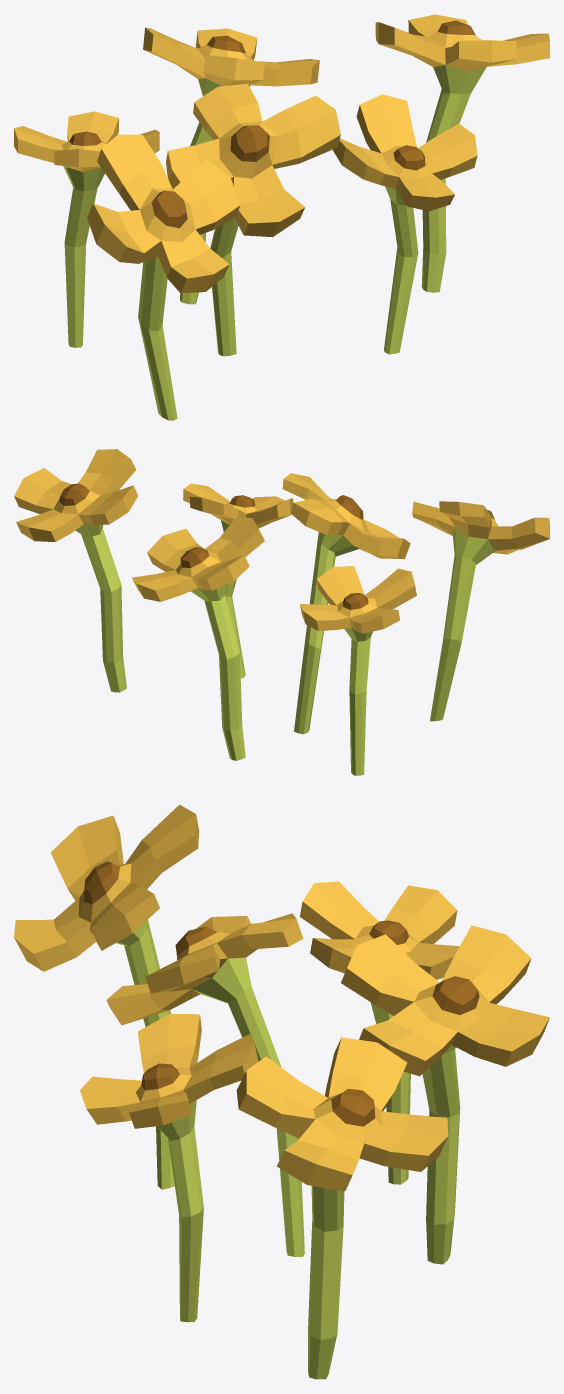
File: flowers-yellow.fbx
The picture shows the model from 3 angles, top to bottom: view 1: azimuth 30°, elevation 25°; view 2: azimuth 150°, elevation 25°; view 3: azimuth 270°, elevation 25°; orthographic projection. The views are drawn at different scales.
Visible parts, largest first — view 1: flowers-yellow_LOD0; view 2: flowers-yellow_LOD0; view 3: flowers-yellow_LOD0.
Part boxes in pixels (x1,y1,x2,y2): flowers-yellow_LOD0: (14, 14, 549, 420); flowers-yellow_LOD0: (14, 449, 549, 775); flowers-yellow_LOD0: (14, 804, 549, 1379).
Size of what is drawn, in the model's own units: 2.65 by 1.32 by 1.84.
